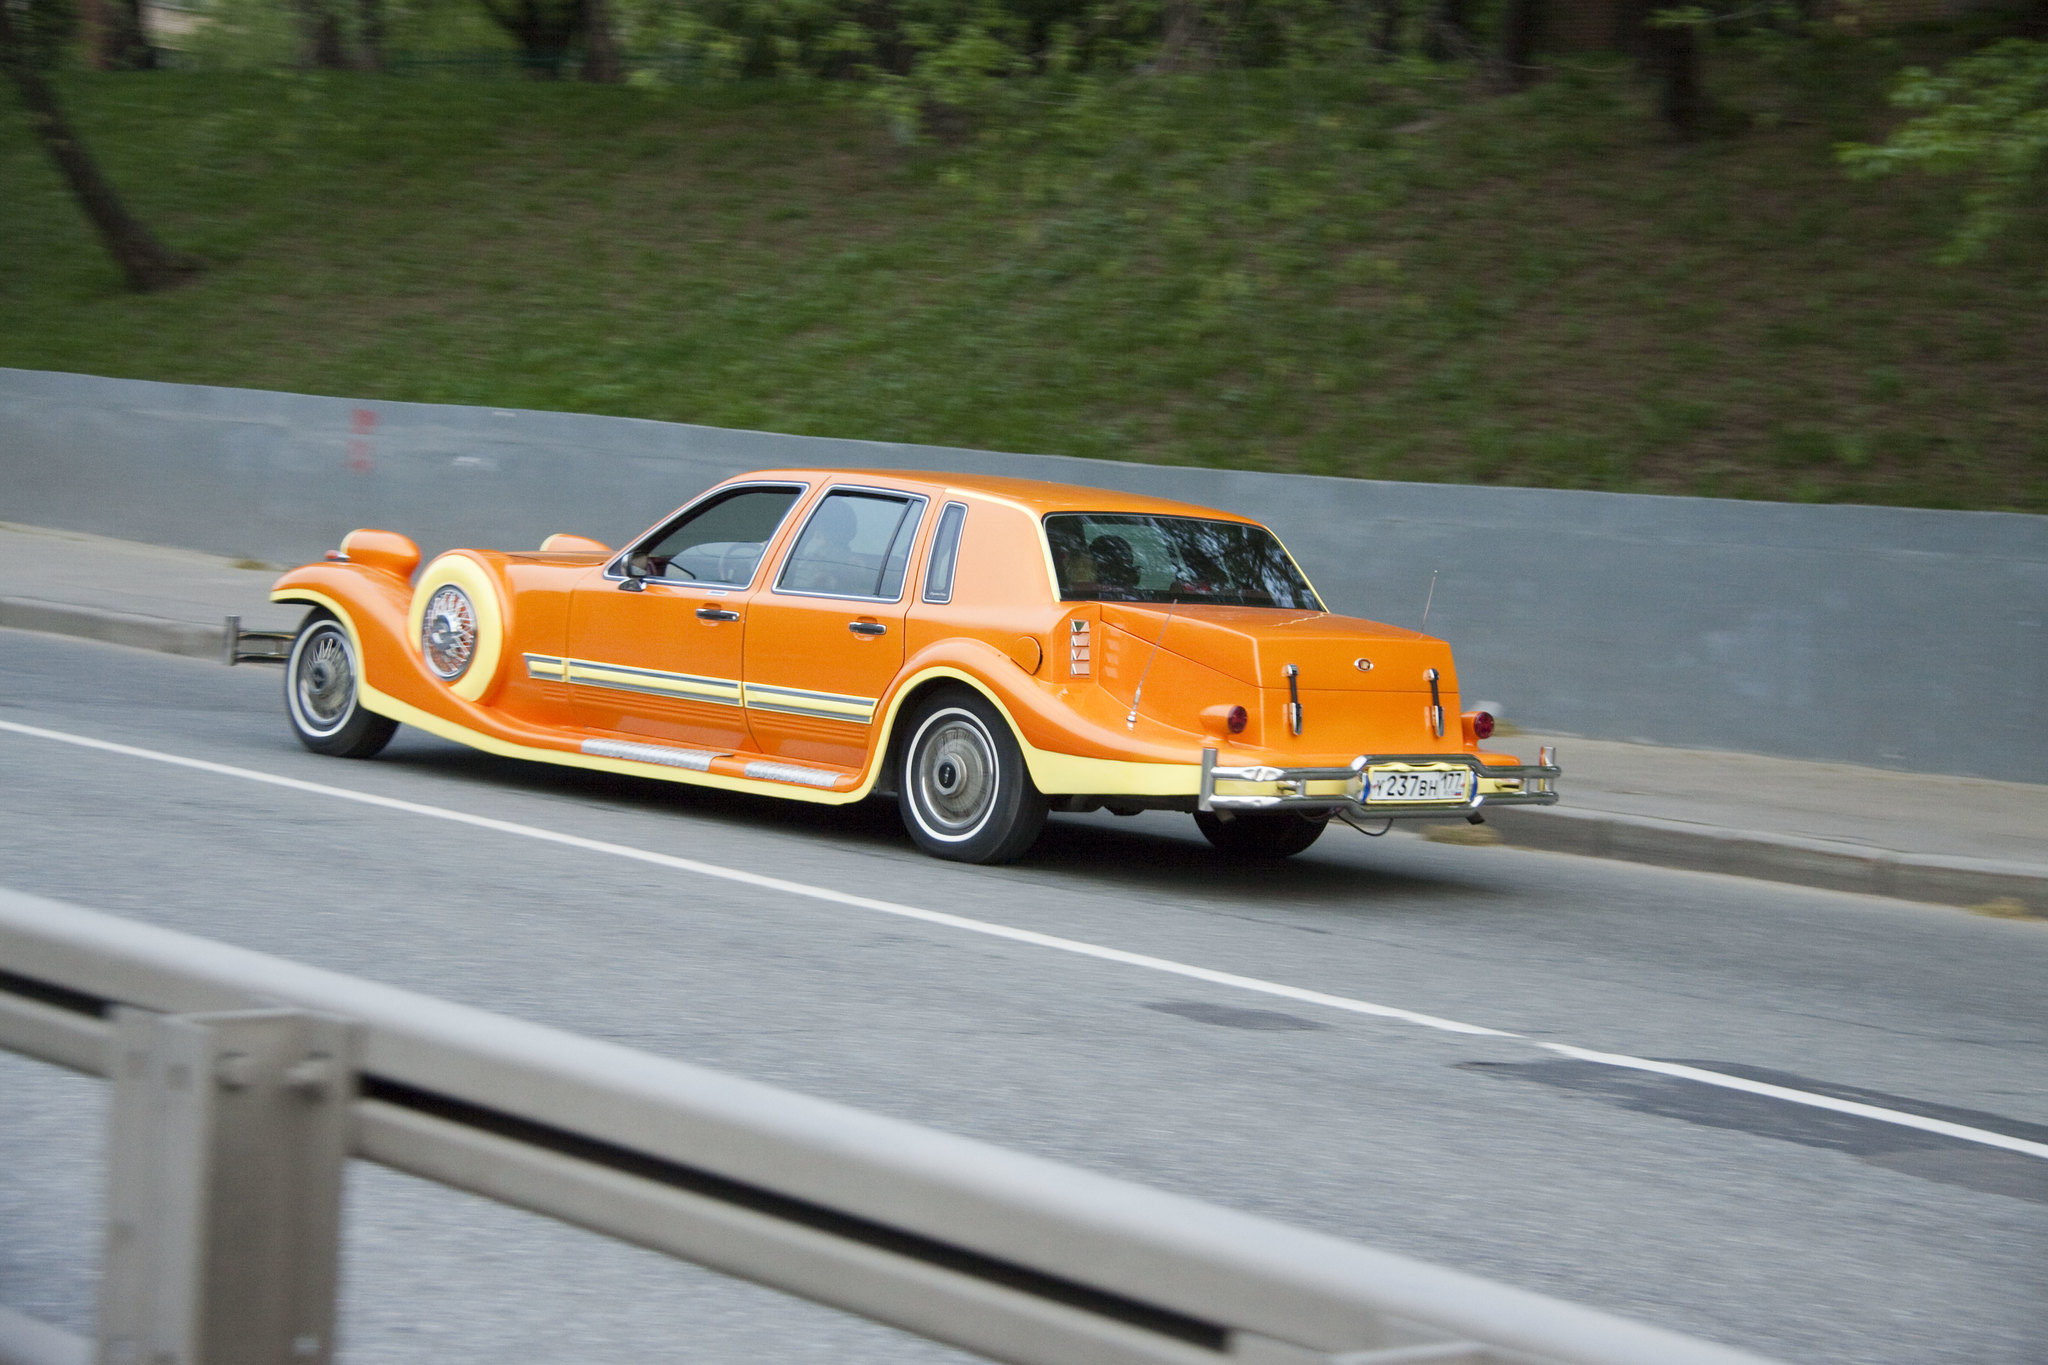car: (221, 445, 1581, 905)
